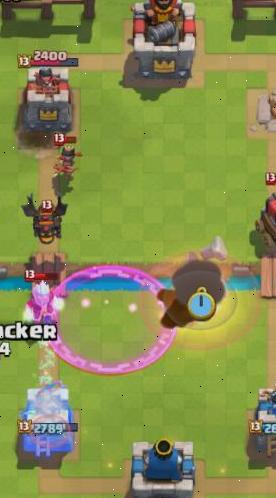enemy_ice_wizard: (22, 271, 67, 326)
enemy_lava_hound: (19, 193, 70, 248)
enemy_princess: (47, 132, 85, 185)
enemy_sparky: (249, 180, 276, 252)
player_bomb: (169, 250, 237, 327)
rage: (44, 258, 183, 379)
